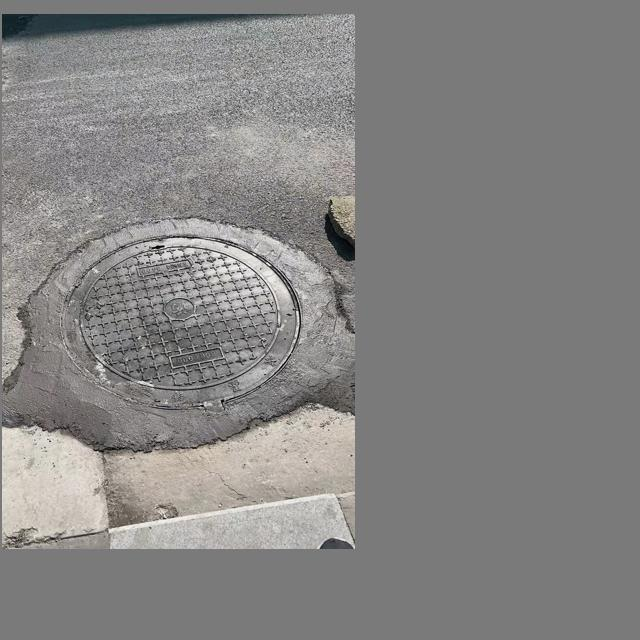good: (9, 217, 349, 455)
